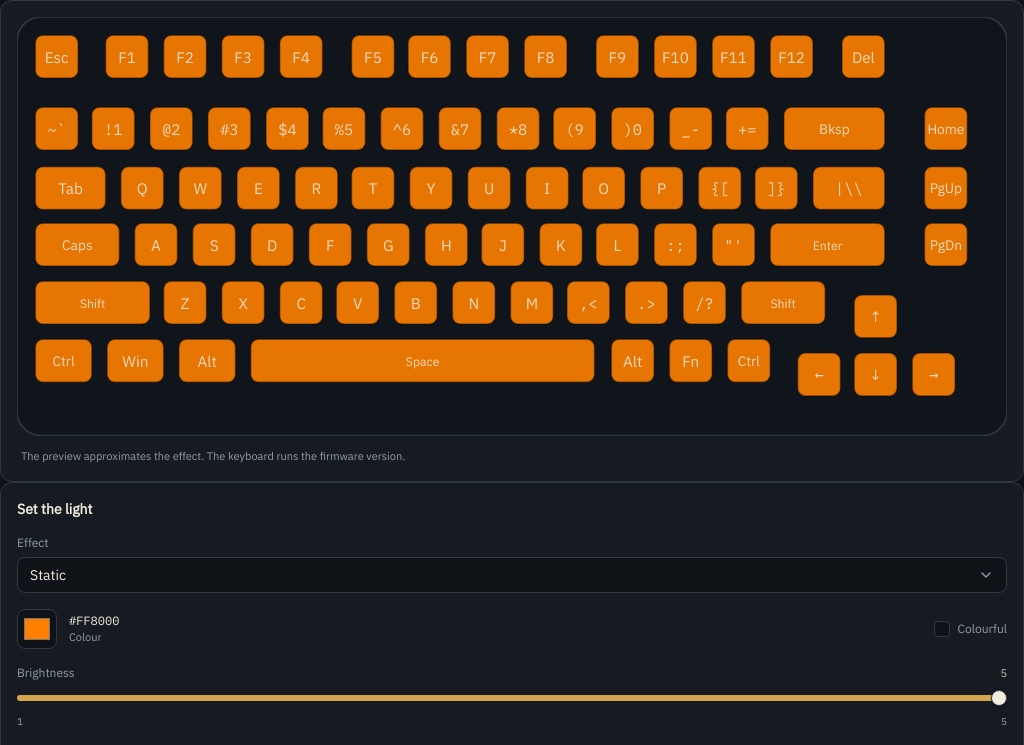
Test: LightingPanel › hides the colour for Colourful but keeps speed
Click the dropdown named "Effect" at (48, 575), box [17,558,1007,594]
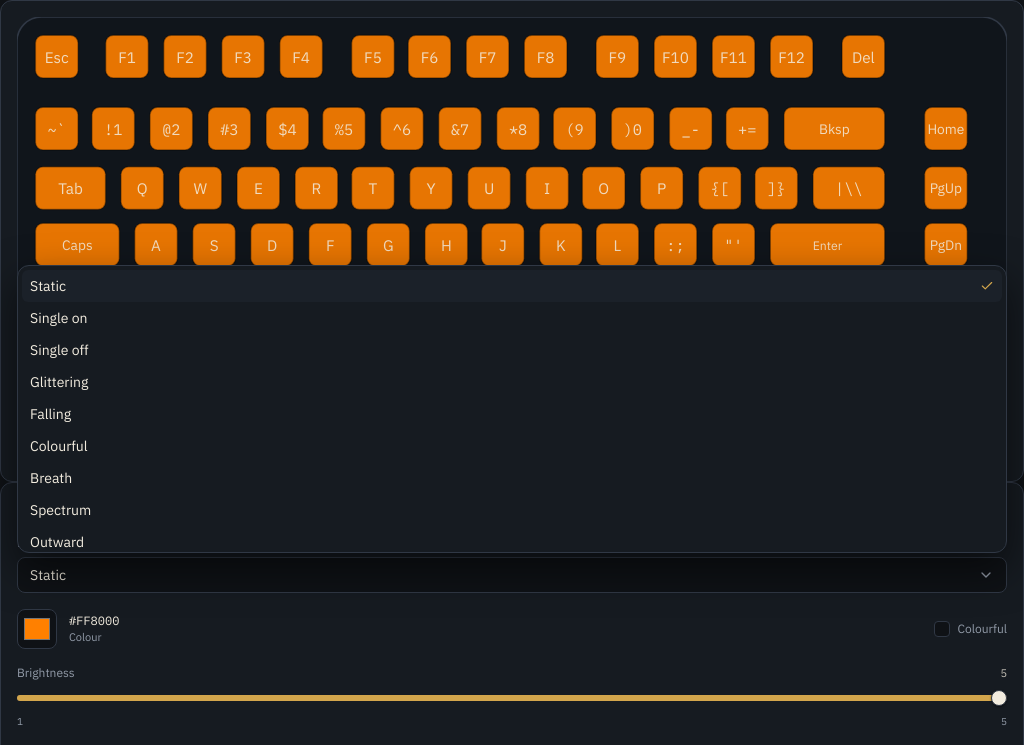
Click the option "Colourful" at (59, 446), box [30,437,88,455]
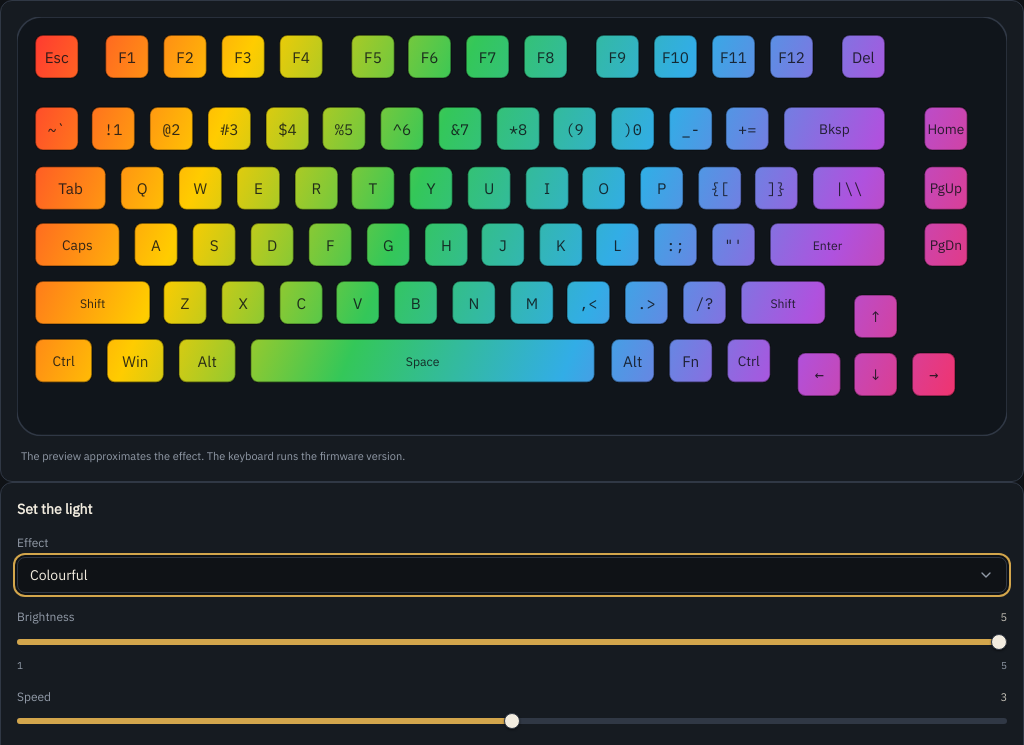
Check: the slider named "Speed" is shown, box [504,714,520,730]
